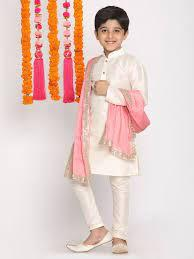Human: (67, 5, 148, 257)
